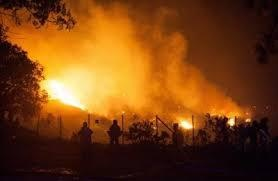fire: (42, 71, 90, 111), (176, 112, 195, 130)
